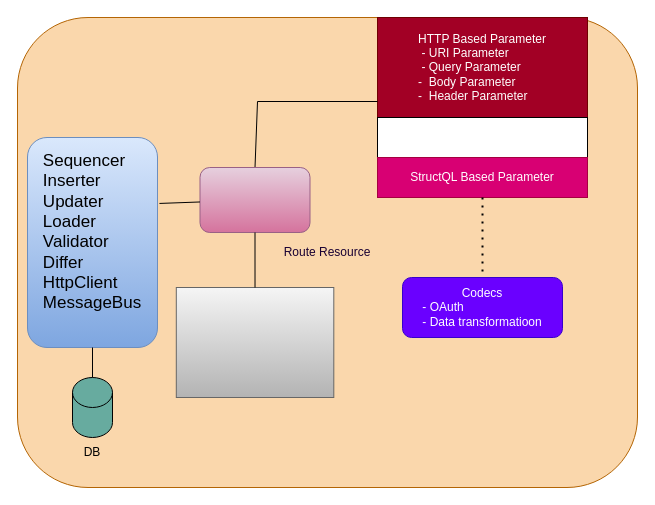
Image size: 655x505. Some labels were removed from this diagram. The box of each missing label's shape, as (x1, y1, x2, y2) in pixels:
- Go Struct - Go Methods: (175, 286, 334, 398)
Data View Based Parameter: (376, 116, 588, 158)
Template: (199, 166, 310, 232)
